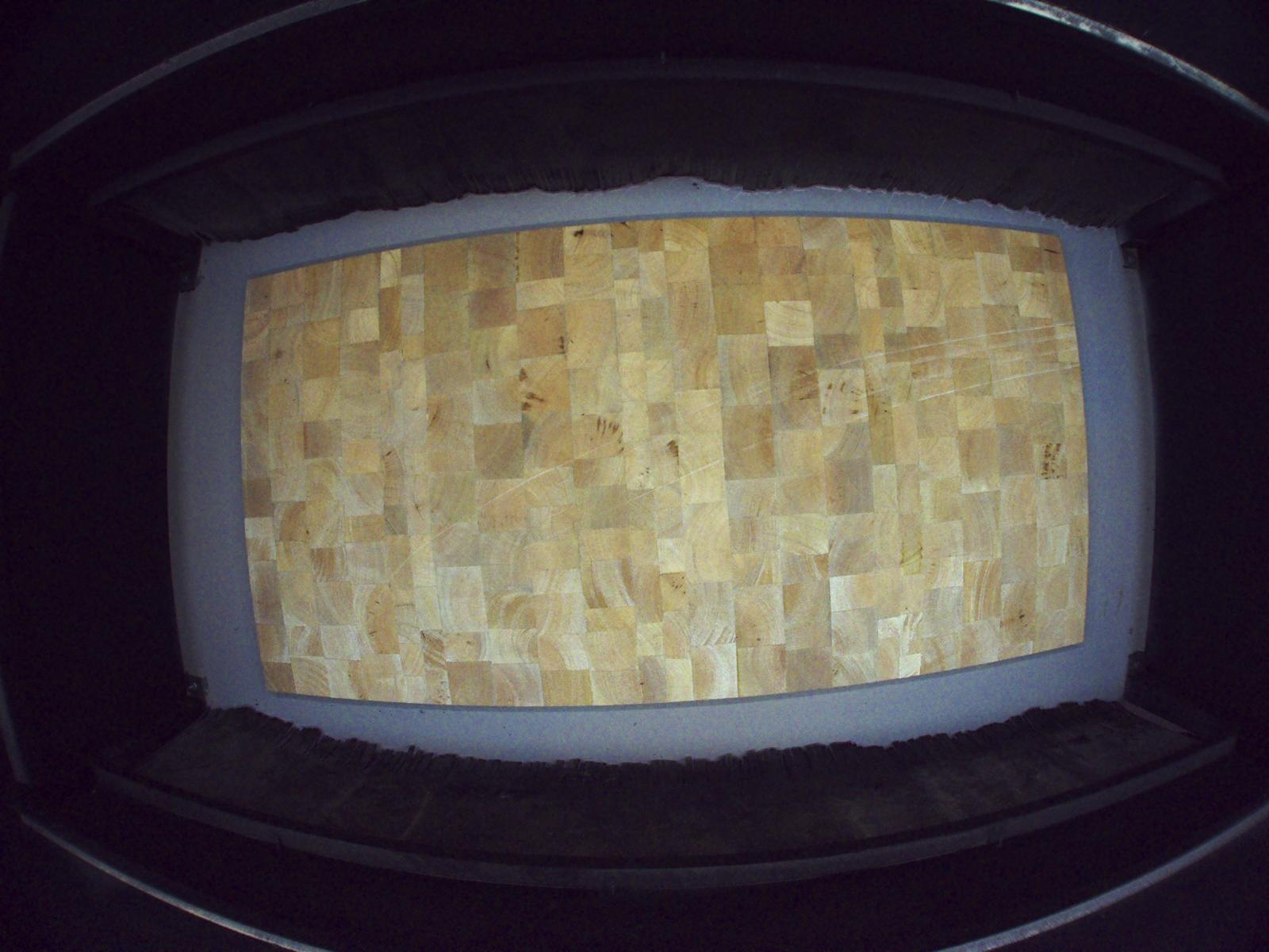sheck_ecuatoriano: (572, 224, 586, 256)
